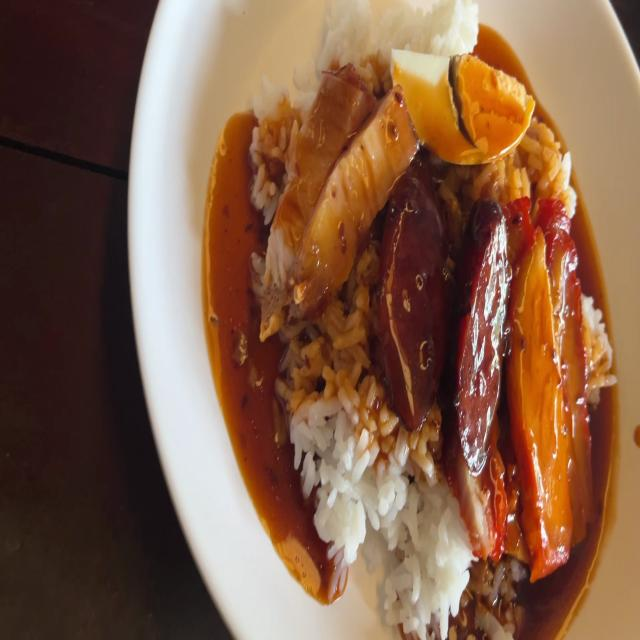01boiled_egg: (394, 40, 528, 159)
01chainese_sausage: (379, 172, 504, 458), (384, 174, 463, 408), (451, 202, 504, 465)
01crispy_pork: (264, 61, 416, 318), (271, 50, 367, 302), (307, 107, 411, 297)
01red_pork: (515, 207, 591, 562)
01red_pork_and_crispy_pork: (245, 0, 618, 640)
01rice: (282, 314, 388, 531), (383, 451, 450, 608), (331, 0, 474, 66)
